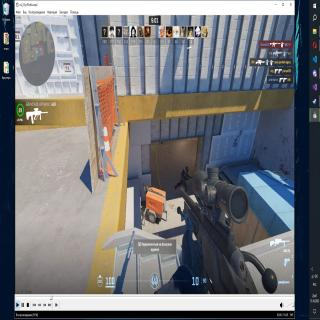CT-Body: (178, 163, 190, 193)
CT-Head: (184, 165, 190, 173)
